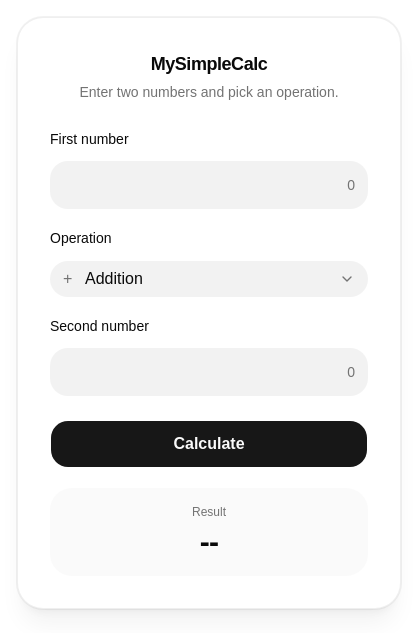
Test: CalculatorPage › entering a calculation › asks only for one operand when the operation is unary
Click the dropdown named "Operation". click: (114, 278)
box: [50,261,368,297]
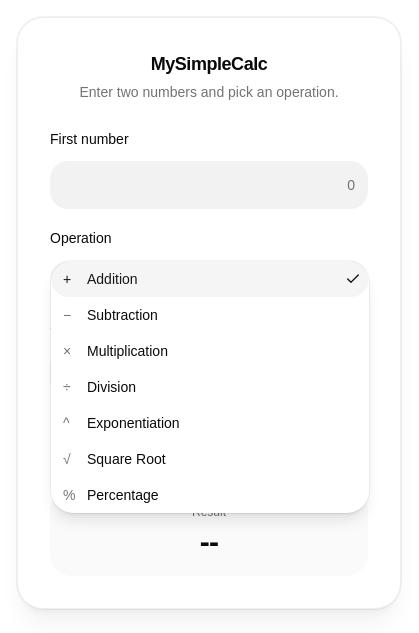
Click the option "√ Square Root". click: (114, 459)
box: [63,451,166,467]
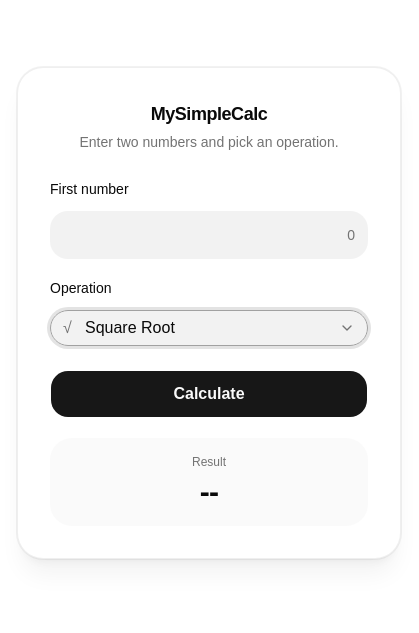
Expected: the number field labelled "First number" is shown, [50,211,368,259]
Expected: the label labelled "Second number" is gone
